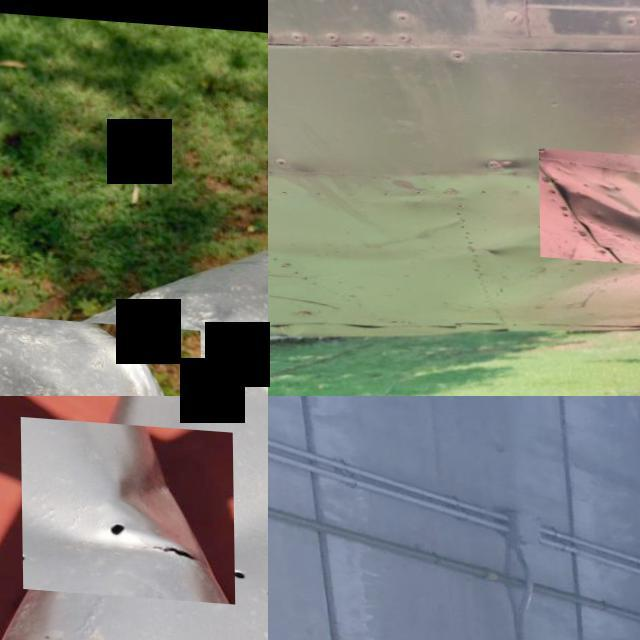Crack: (41, 524, 117, 562)
Dent: (20, 416, 234, 600), (0, 310, 201, 396), (537, 143, 640, 268)
